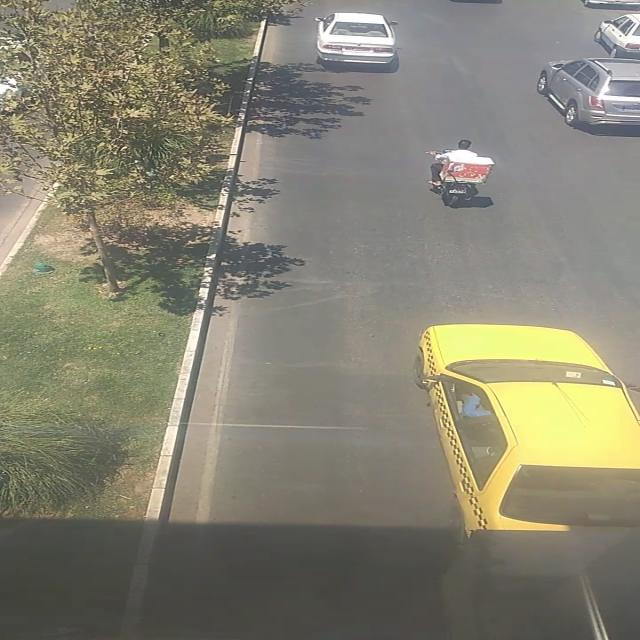car: (415, 323, 640, 535), (537, 56, 640, 130), (311, 14, 401, 66), (598, 14, 640, 58)
motor: (426, 138, 496, 210)
